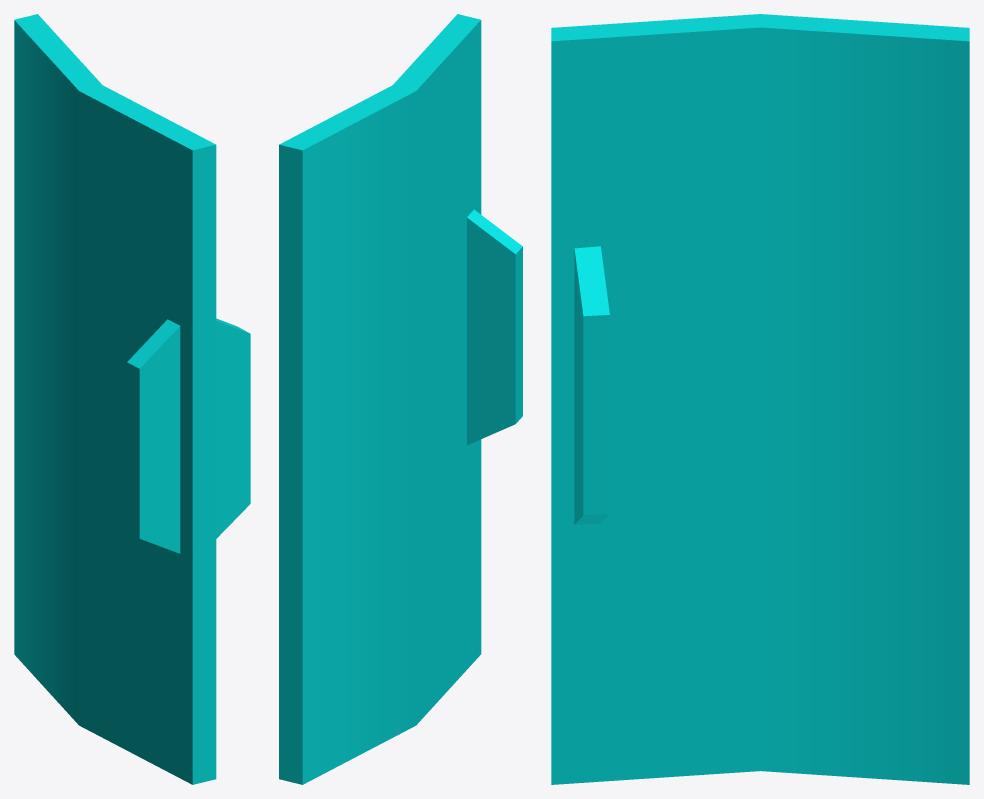
File: SM_Bld_Lighthouse_01_Door_01_Collision.fbx
3 views of the same model, side by side, from view 1: azimuth 30°, elevation 25°; view 2: azimuth 150°, elevation 25°; view 3: azimuth 270°, elevation 25° (orthographic). The views are drawn at different scales.
Visible parts, largest first — view 1: SM_Bld_Lighthouse_01_Door_01_Collision; view 2: SM_Bld_Lighthouse_01_Door_01_Collision; view 3: SM_Bld_Lighthouse_01_Door_01_Collision.
Part boxes in pixels (left/top/right/bottom): SM_Bld_Lighthouse_01_Door_01_Collision: left=14, top=14, right=250, bottom=784; SM_Bld_Lighthouse_01_Door_01_Collision: left=279, top=14, right=522, bottom=784; SM_Bld_Lighthouse_01_Door_01_Collision: left=551, top=14, right=969, bottom=784.
Bounding box in the file's own units: 39.56 × 197 × 100.
